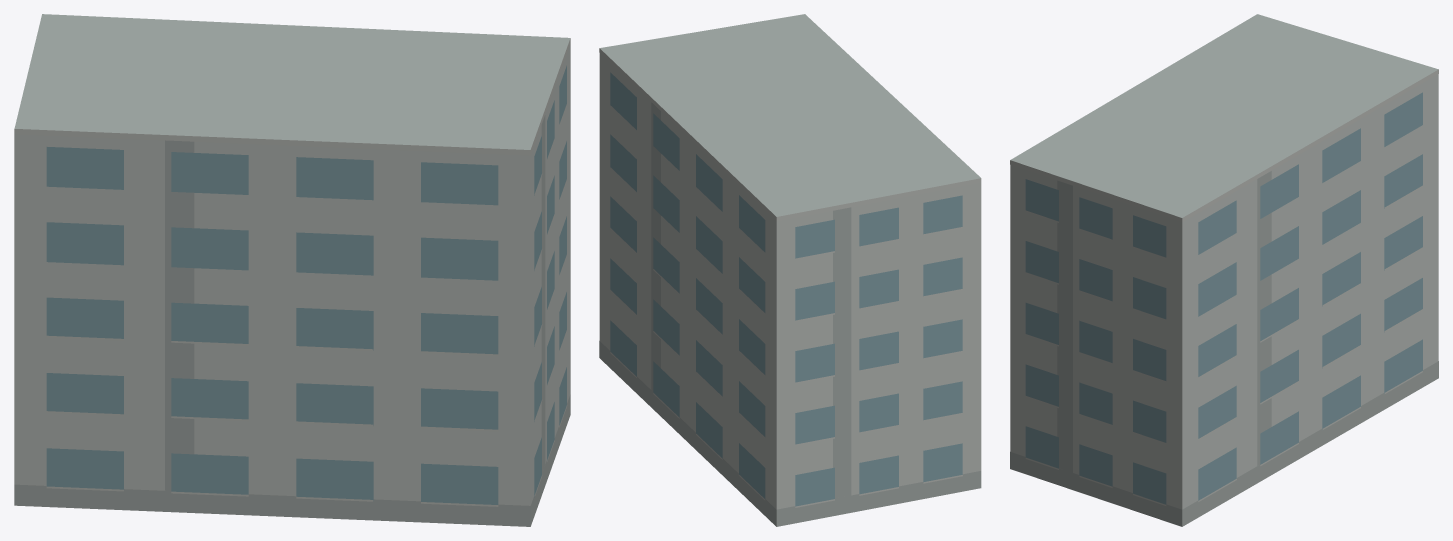
Rendered from survey-upis-32930549.glb.
3 renders of one model, left to right at view 1: azimuth 30°, elevation 25°; view 2: azimuth 150°, elevation 25°; view 3: azimuth 270°, elevation 25°, orthographic. The views are drawn at different scales.
Visible parts, largest first — view 1: survey-upis-32930549.tmp; view 2: survey-upis-32930549.tmp; view 3: survey-upis-32930549.tmp.
Boxes of the visible parts, x1,y1,x2,y2 form: survey-upis-32930549.tmp: [14, 14, 570, 526]; survey-upis-32930549.tmp: [599, 14, 981, 526]; survey-upis-32930549.tmp: [1010, 14, 1438, 526].
Bounding box in the file's own units: 23.81 × 16.8 × 21.14.
